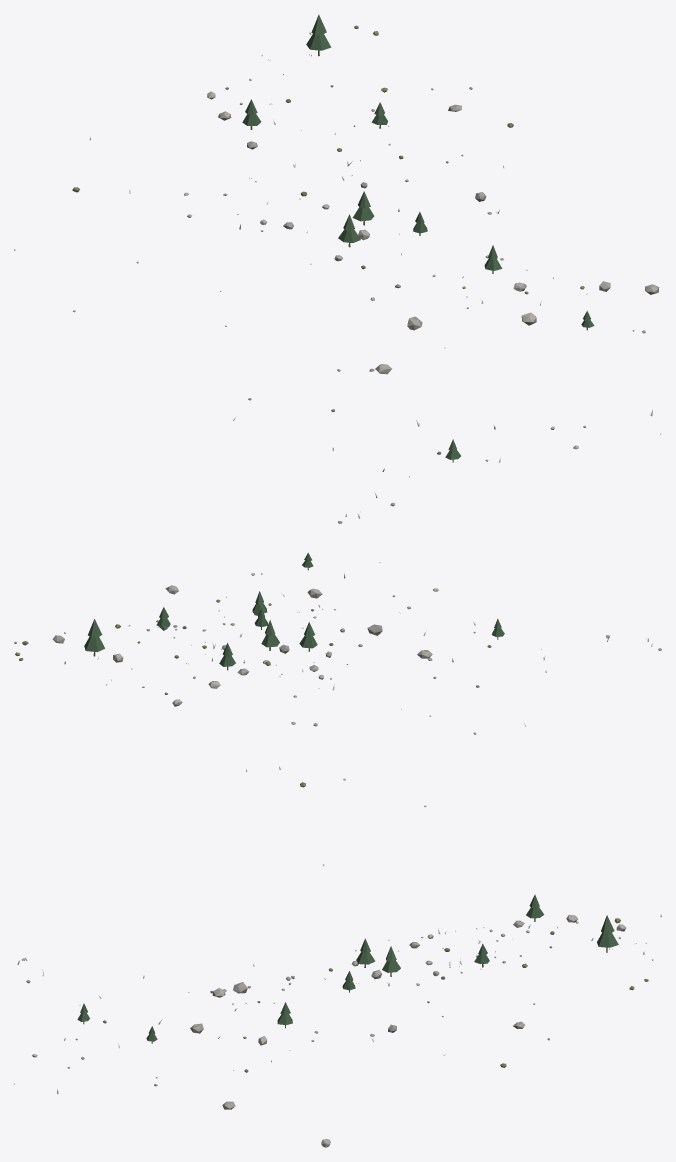
The model's file is coast_land_scatter_c09_22_lod1.glb.
3 renders of one model, top to bottom at view 1: azimuth 30°, elevation 25°; view 2: azimuth 150°, elevation 25°; view 3: azimuth 270°, elevation 25°, orthographic. The views are drawn at different scales.
Parts seen in each view (by area): view 1: coast_land_scatter_c09_22_lod1; view 2: coast_land_scatter_c09_22_lod1; view 3: coast_land_scatter_c09_22_lod1.
Boxes of the visible parts, x1=… form: coast_land_scatter_c09_22_lod1: x1=14, y1=14, x2=660, y2=523; coast_land_scatter_c09_22_lod1: x1=14, y1=552, x2=661, y2=865; coast_land_scatter_c09_22_lod1: x1=14, y1=894, x2=661, y2=1147.
Bounding box in the file's own units: 177 × 76.58 × 248.
